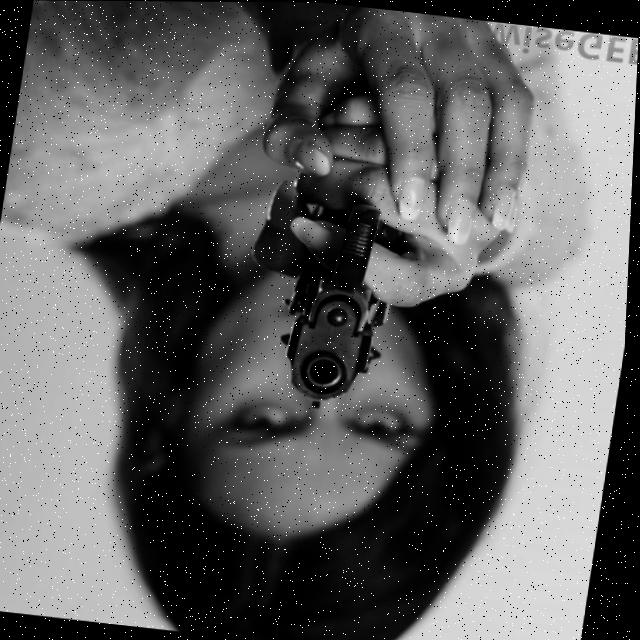pistol: (277, 200, 405, 413)
